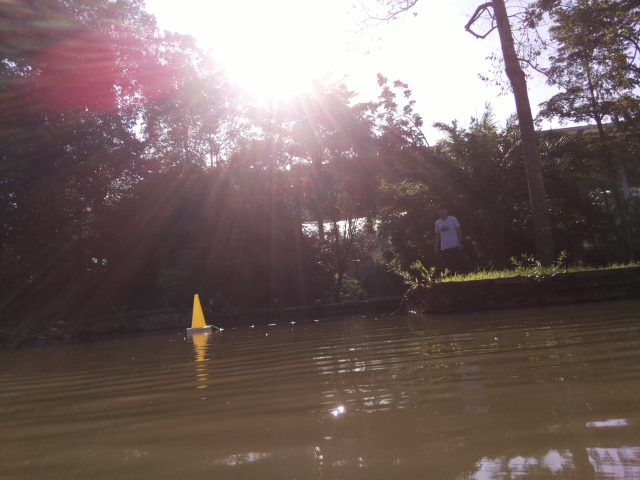checkpoint: (185, 292, 214, 335)
